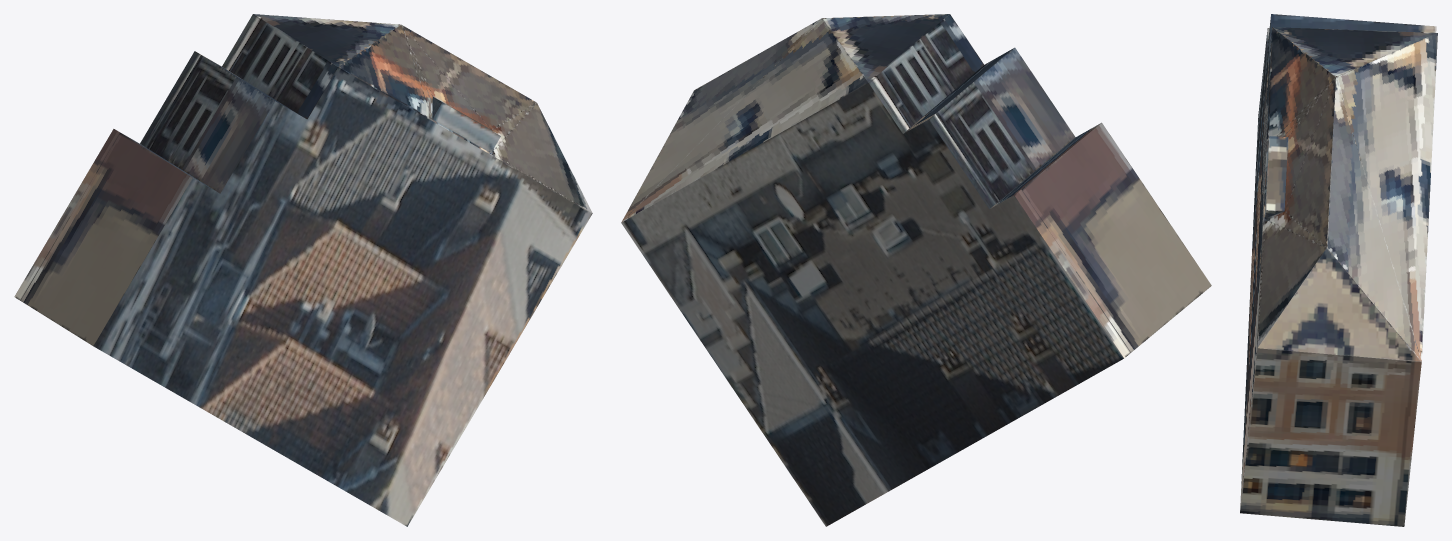
3 renders of one model, left to right at view 1: azimuth 30°, elevation 25°; view 2: azimuth 150°, elevation 25°; view 3: azimuth 270°, elevation 25°, orthographic.
Visible parts, largest first — view 1: BAG_0599100000671705 (×4); view 2: BAG_0599100000671705 (×3); view 3: BAG_0599100000671705 (×5).
Boxes of the visible parts, x1,y1,x2,y2 form: BAG_0599100000671705 (×4): [14, 14, 592, 526]; BAG_0599100000671705 (×3): [621, 14, 1211, 526]; BAG_0599100000671705 (×5): [1240, 14, 1437, 526].
Size of the model in its own units: 19.03 by 17.11 by 6.5.
Materials: 1 (1 with a texture image).
